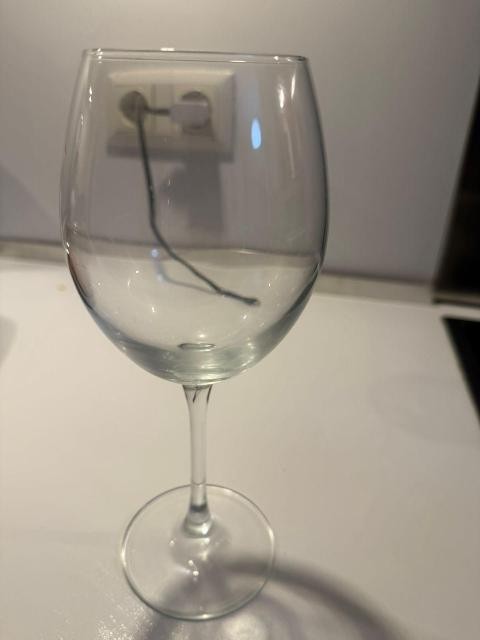Cam: (49, 39, 309, 625)
